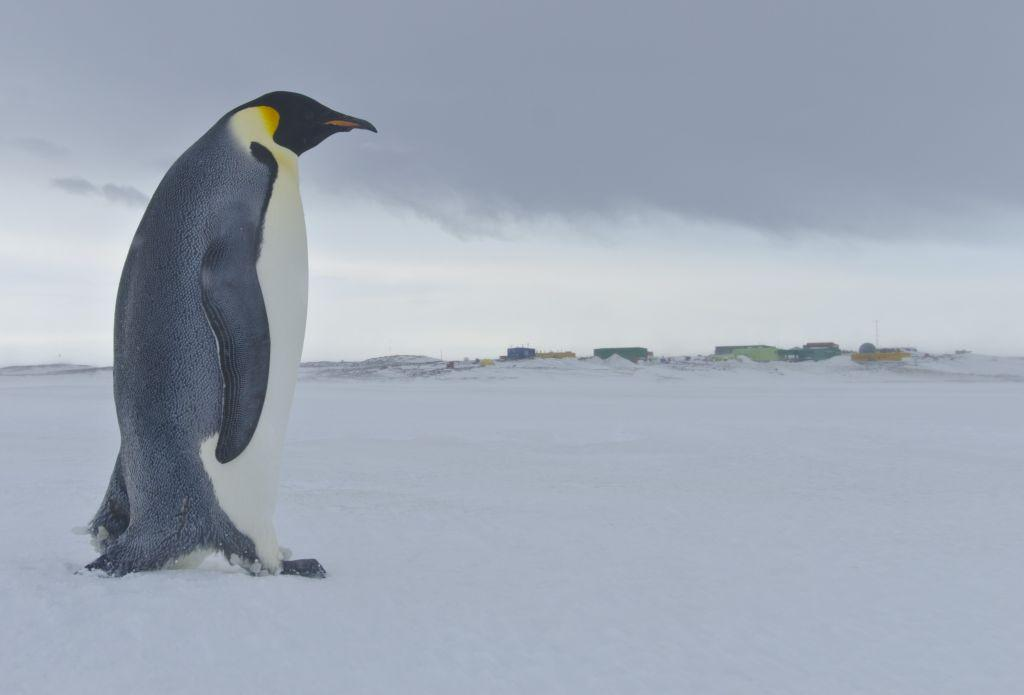emporer: (69, 67, 412, 612)
